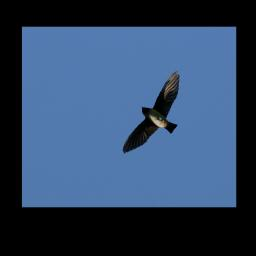Swallow: (124, 70, 182, 155)
